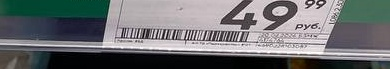1d: (119, 25, 251, 43)
